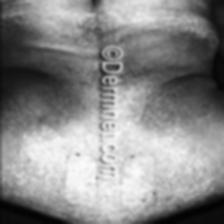Toxin: (120, 21, 208, 119), (0, 100, 88, 167)
